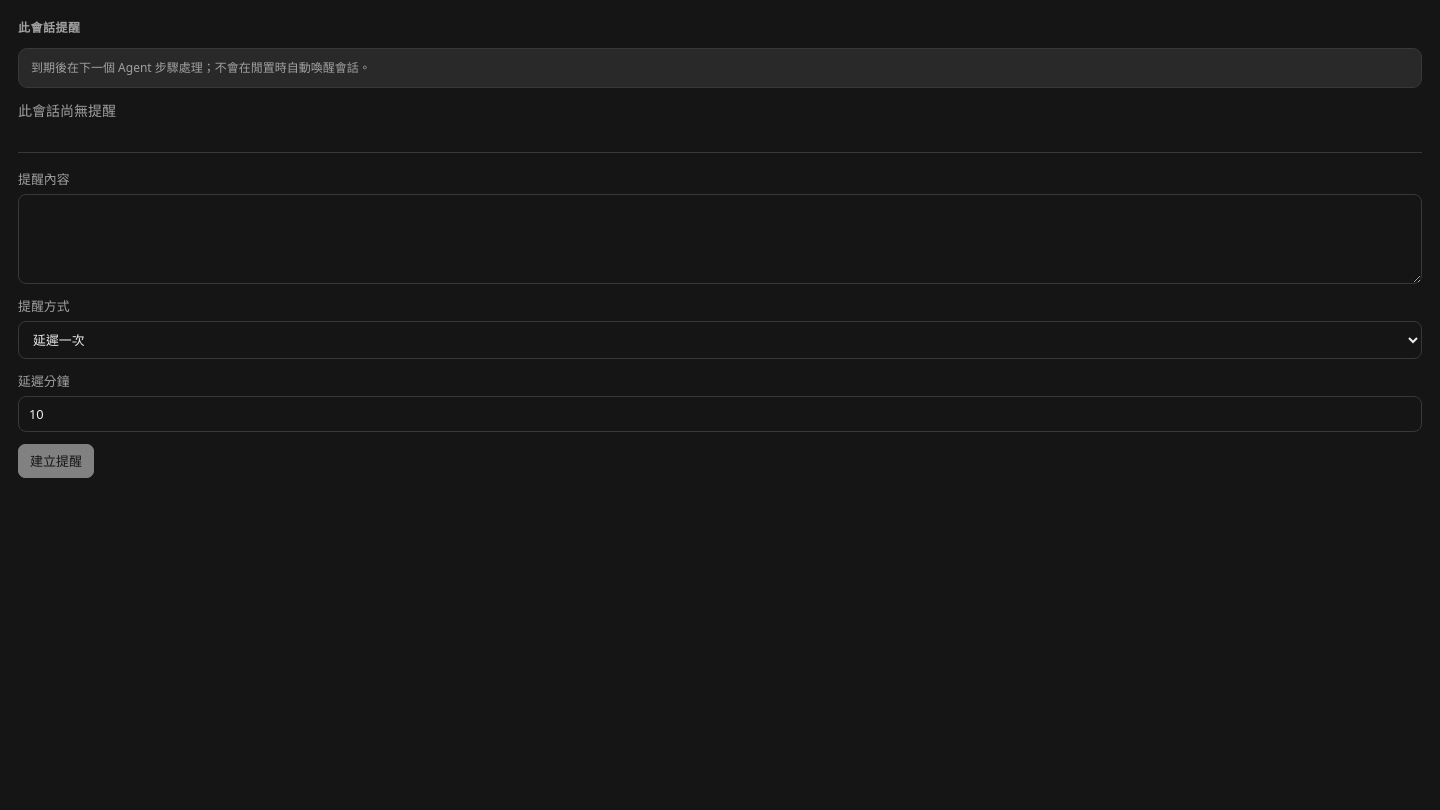
it: keeps a newer reminder list when an older notification read resolves late
Expected: the text "此會話尚無提醒" is shown, 18,101 -> 116,120
Type "新提醒" into the text box labelled "提醒內容".
click(720, 239); type("新提醒")  # box 18,194 -> 1422,284
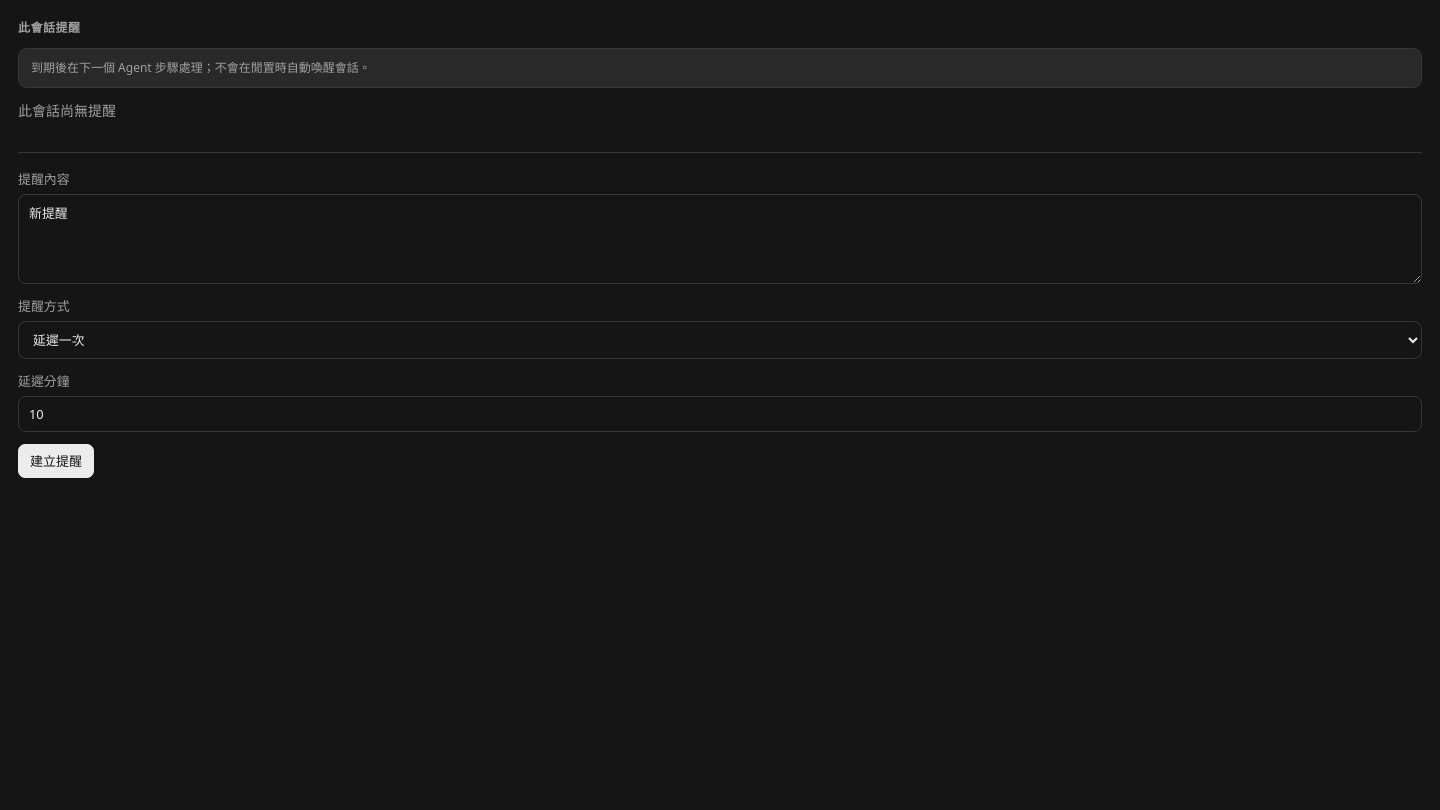
Click the button "建立提醒".
click(56, 461)  # box 18,444 -> 94,478
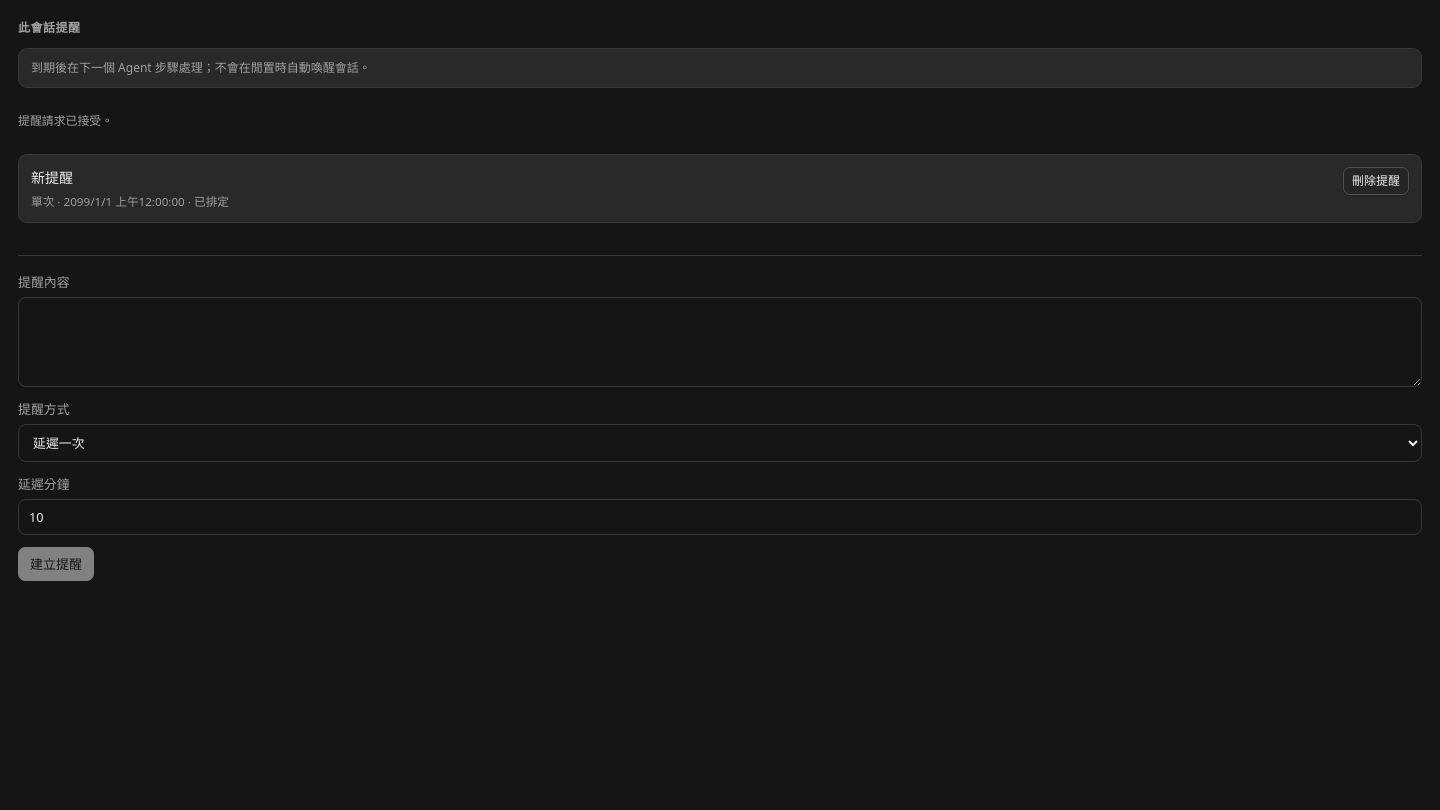
Now the text "新提醒" is shown, box 31,168 -> 73,187
